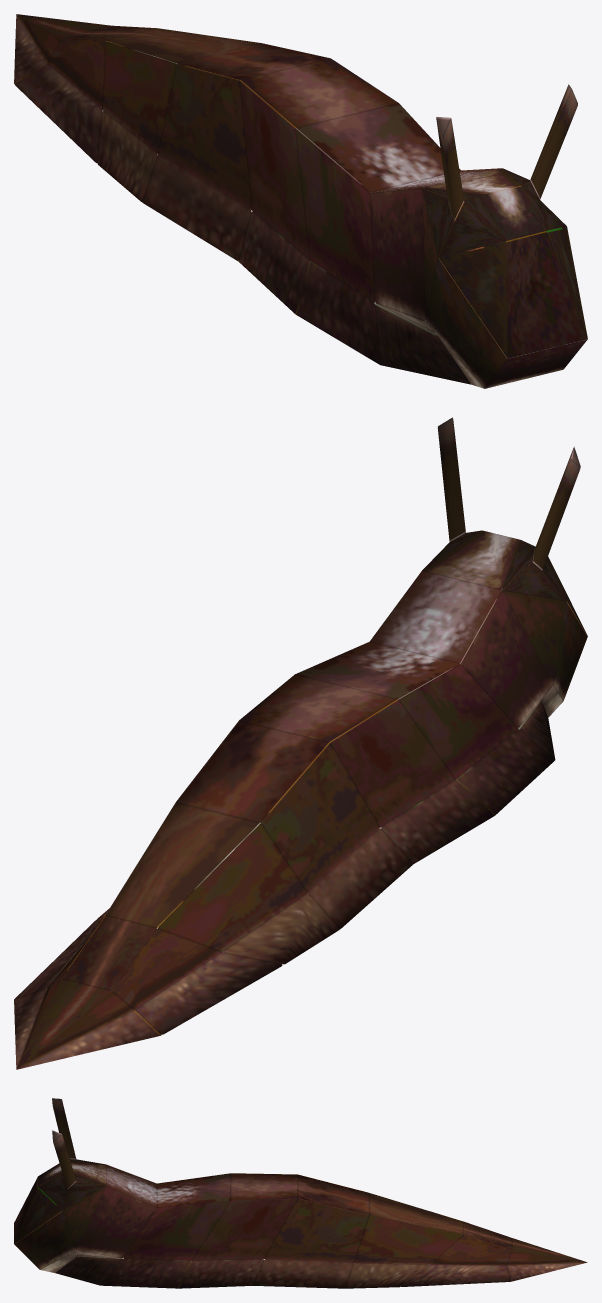
3 views of the same model, one above another, from view 1: azimuth 30°, elevation 25°; view 2: azimuth 150°, elevation 25°; view 3: azimuth 270°, elevation 25° (orthographic). The views are drawn at different scales.
Visible parts, largest first — view 1: T1L7M007_23; view 2: T1L7M007_23; view 3: T1L7M007_23.
Part boxes in pixels (x1,y1,x2,y2): T1L7M007_23: (14,14,587,388); T1L7M007_23: (14,417,587,1069); T1L7M007_23: (14,1098,587,1288).
Size of the model in its own units: 0.5742 by 0.7546 by 2.64.
